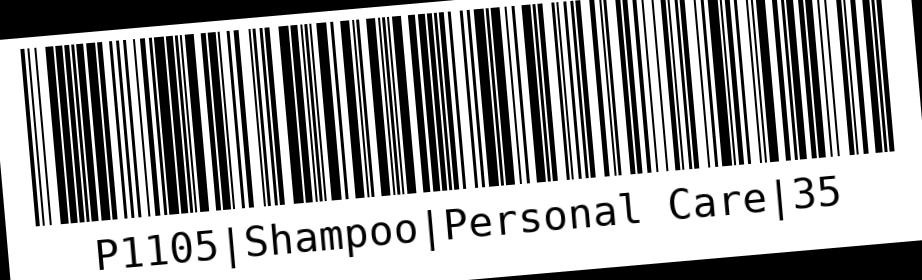milk: (10, 0, 921, 279)
